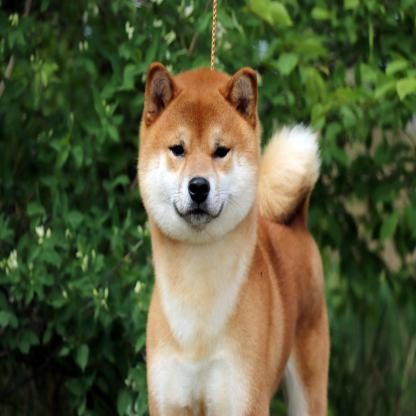Siba-ny: (135, 56, 333, 416)
